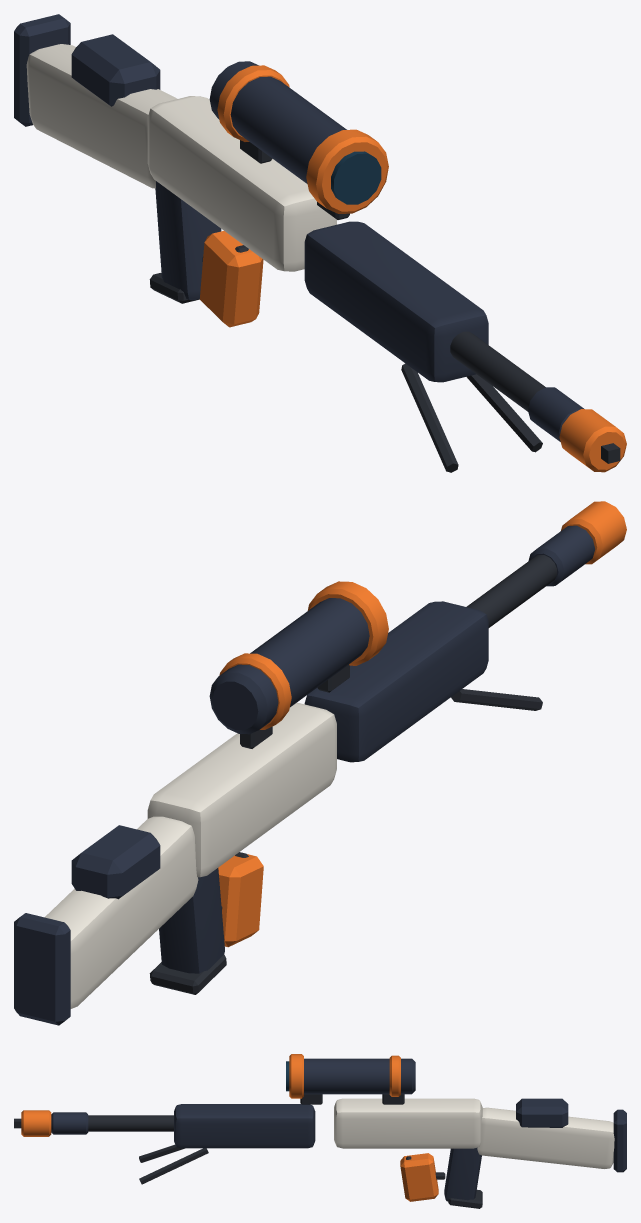
The model's file is wpn_marksman.fbx.
The picture shows the model from 3 angles, top to bottom: view 1: azimuth 30°, elevation 25°; view 2: azimuth 150°, elevation 25°; view 3: azimuth 270°, elevation 25°; orthographic projection. The views are drawn at different scales.
Parts seen in each view (by area): view 1: Body; view 2: Body; view 3: Body.
Part boxes in pixels (x1,y1,x2,y2): Body: (14,14,626,472); Body: (14,501,626,1025); Body: (21,1054,626,1208).
Bounding box in the file's own units: 0.7887 × 2.19 × 8.24.
Materials: 2 (1 with a texture image).
